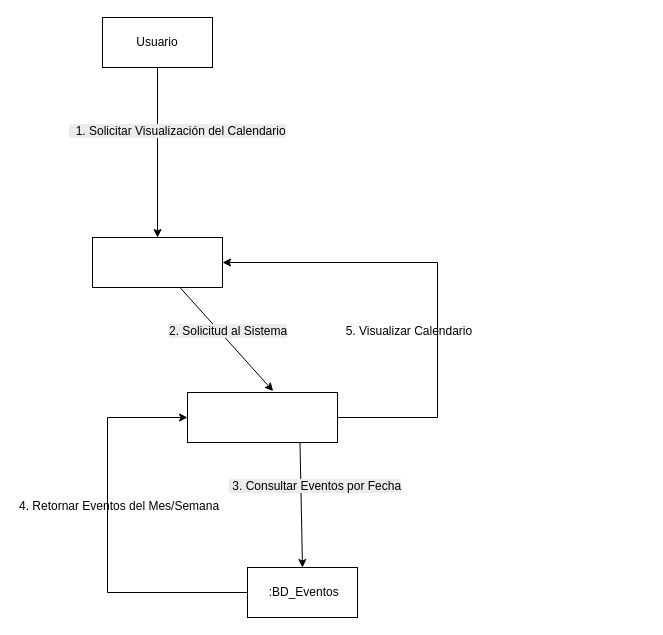
This 663x635 diagram has some shape labels left out. Each missing label, with the centre of its shape:
":UI_Calendario" goes at (157,262).
"SistemaCalendario" goes at (262,417).
